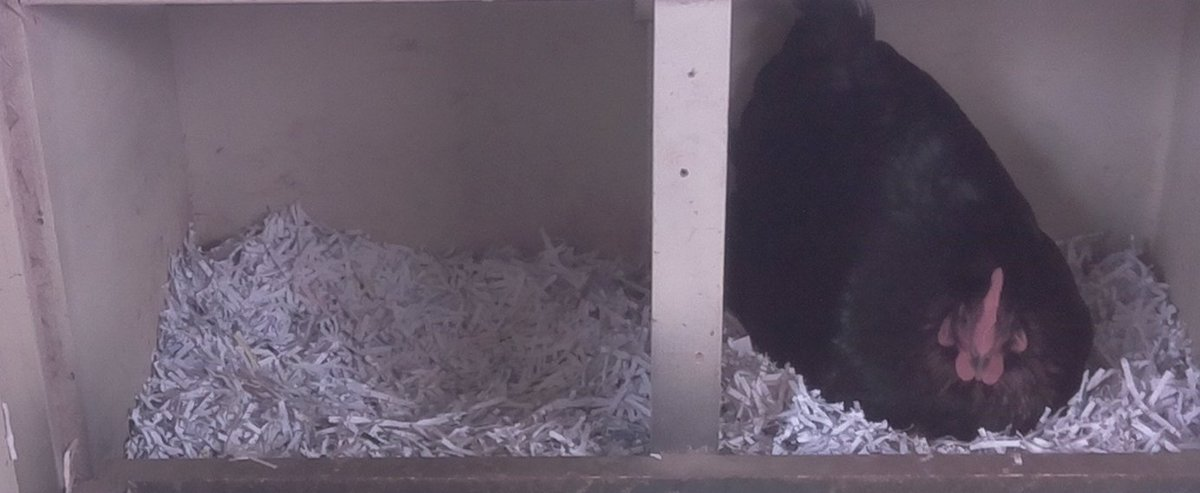hen: (738, 2, 1097, 449)
